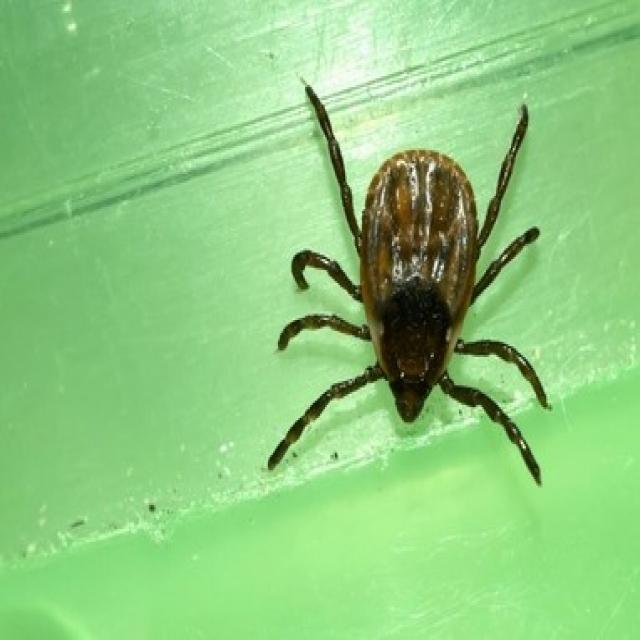Rhipicephalus Sanguineus-F: (268, 87, 551, 488)
